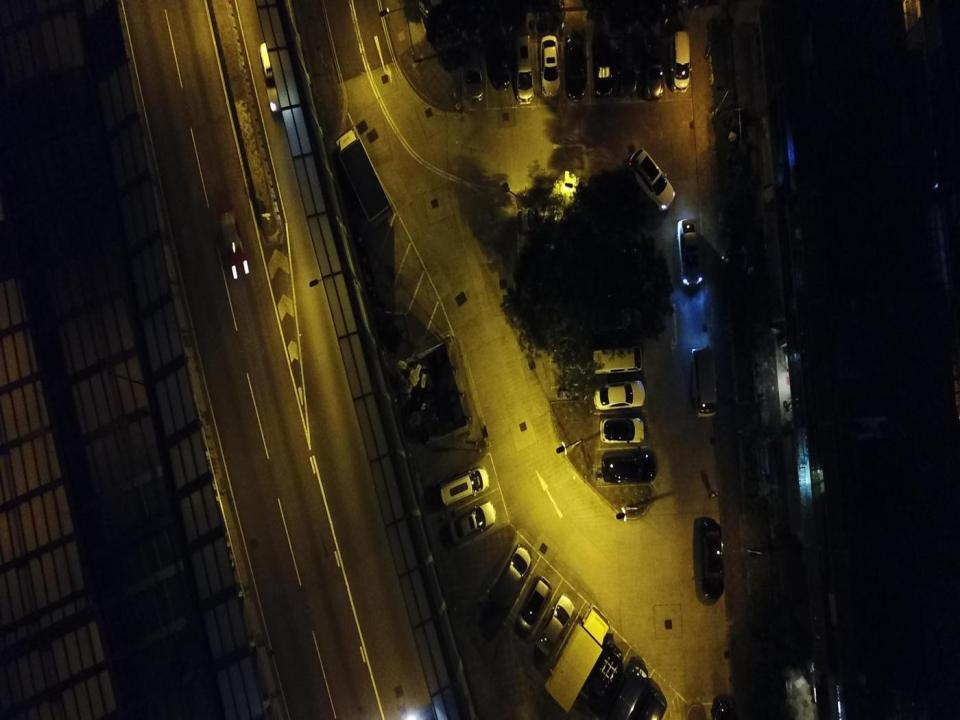bus: (693, 348, 718, 419)
car: (628, 148, 676, 212), (578, 642, 623, 708), (258, 40, 293, 114), (535, 594, 575, 658), (609, 656, 649, 719), (216, 198, 248, 272), (439, 465, 490, 507), (448, 500, 496, 544), (484, 11, 510, 90), (516, 575, 552, 632), (601, 447, 656, 483), (701, 520, 725, 599), (677, 218, 703, 286), (512, 33, 535, 105), (641, 34, 665, 101), (591, 34, 616, 98), (594, 380, 644, 411), (564, 34, 587, 100), (669, 29, 692, 94), (539, 36, 561, 98), (618, 33, 639, 96), (462, 43, 484, 102), (600, 416, 645, 444), (637, 686, 668, 719), (710, 694, 738, 719)
truck: (543, 602, 610, 714), (336, 129, 392, 224)
van: (485, 544, 532, 620), (593, 346, 643, 374)
